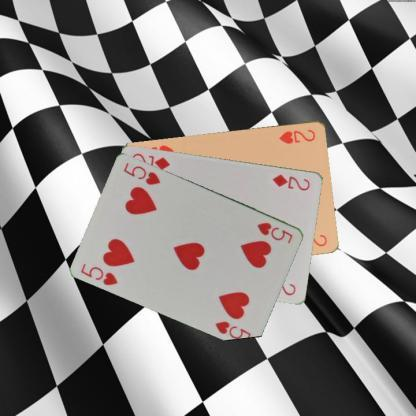2d: (270, 171, 312, 192)
2h: (276, 127, 316, 146)
5h: (78, 260, 119, 286), (254, 220, 295, 244)
